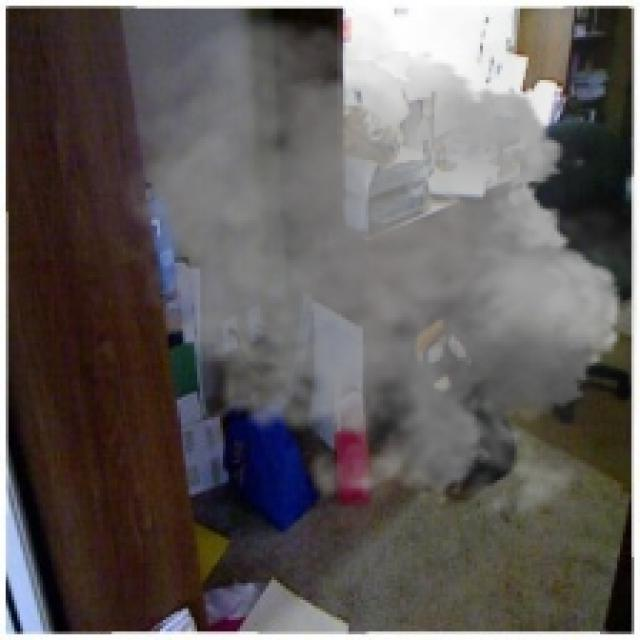Smoke: (102, 6, 638, 534)
